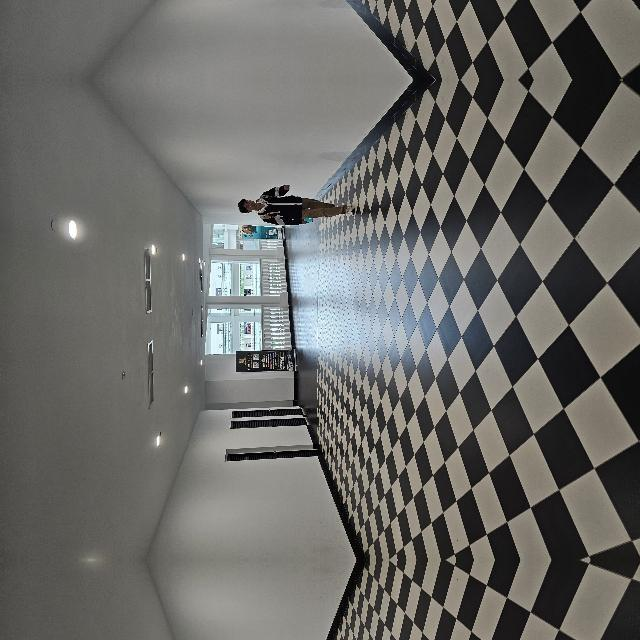person: (332, 315, 378, 433)
